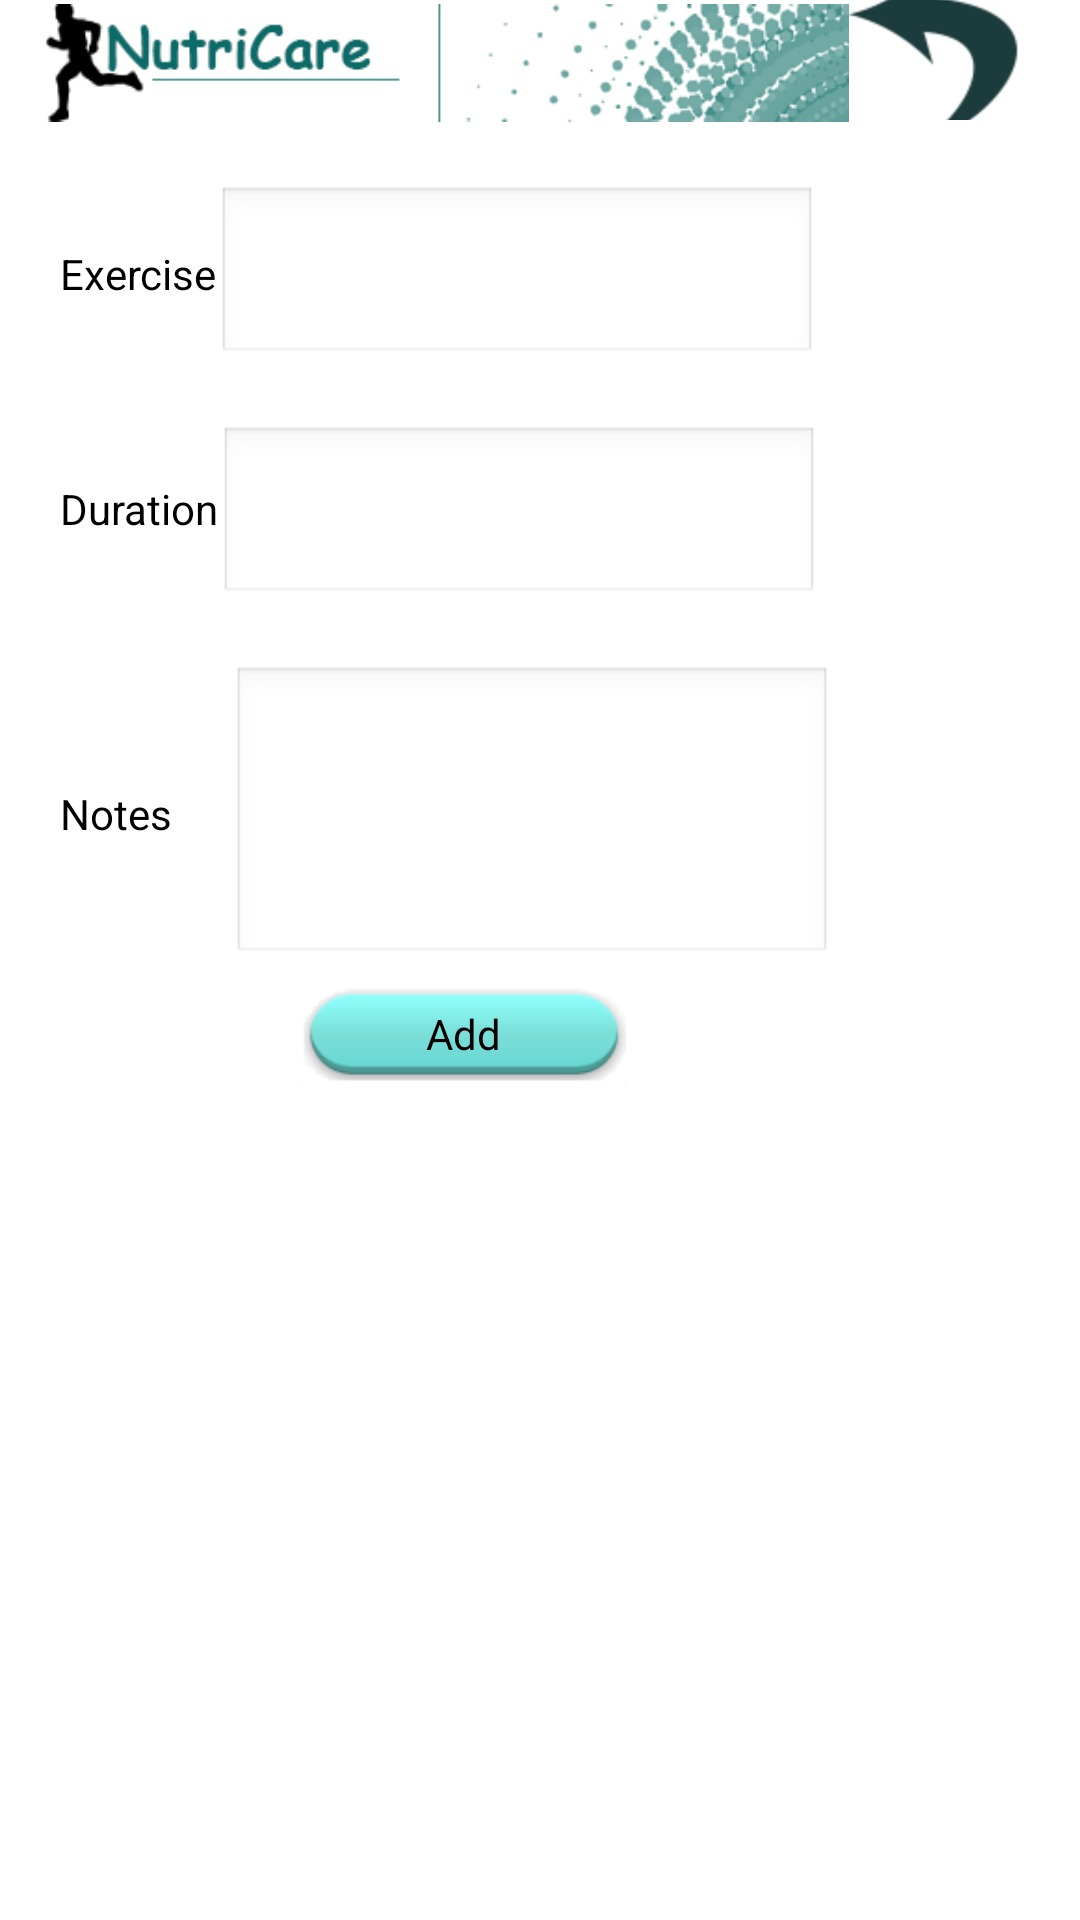

Icon bounding boxes for this 1080px×1920px phone screenshot, format Rect(x1, y1, x2, y2):
back: Rect(849, 0, 1018, 120)
